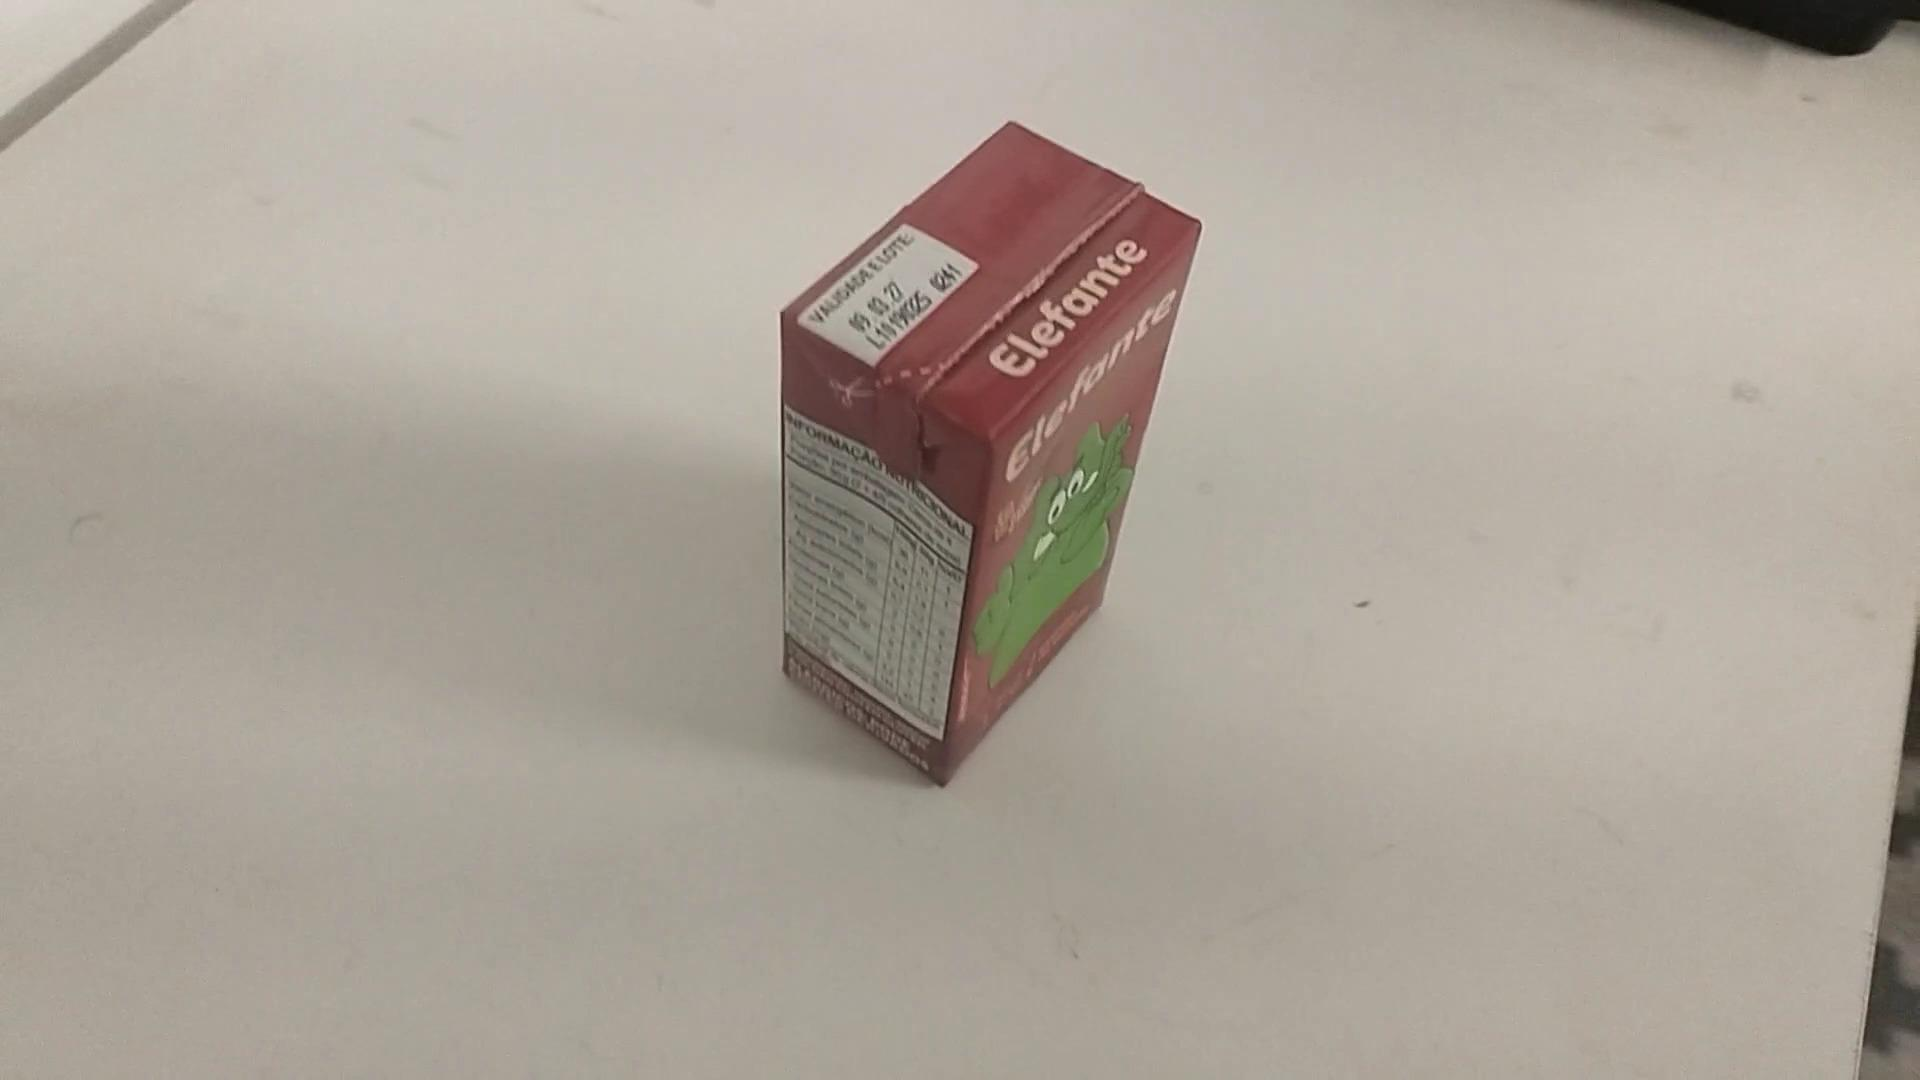tomate: (783, 128, 1189, 781)
